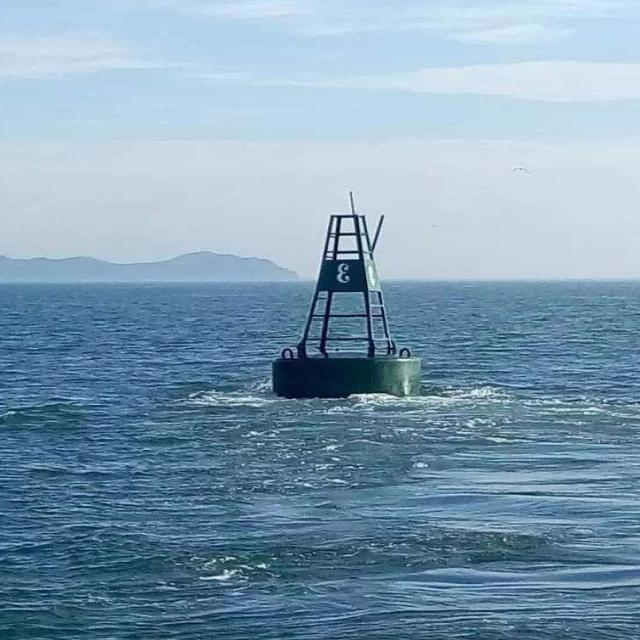buoy: (275, 186, 418, 397)
